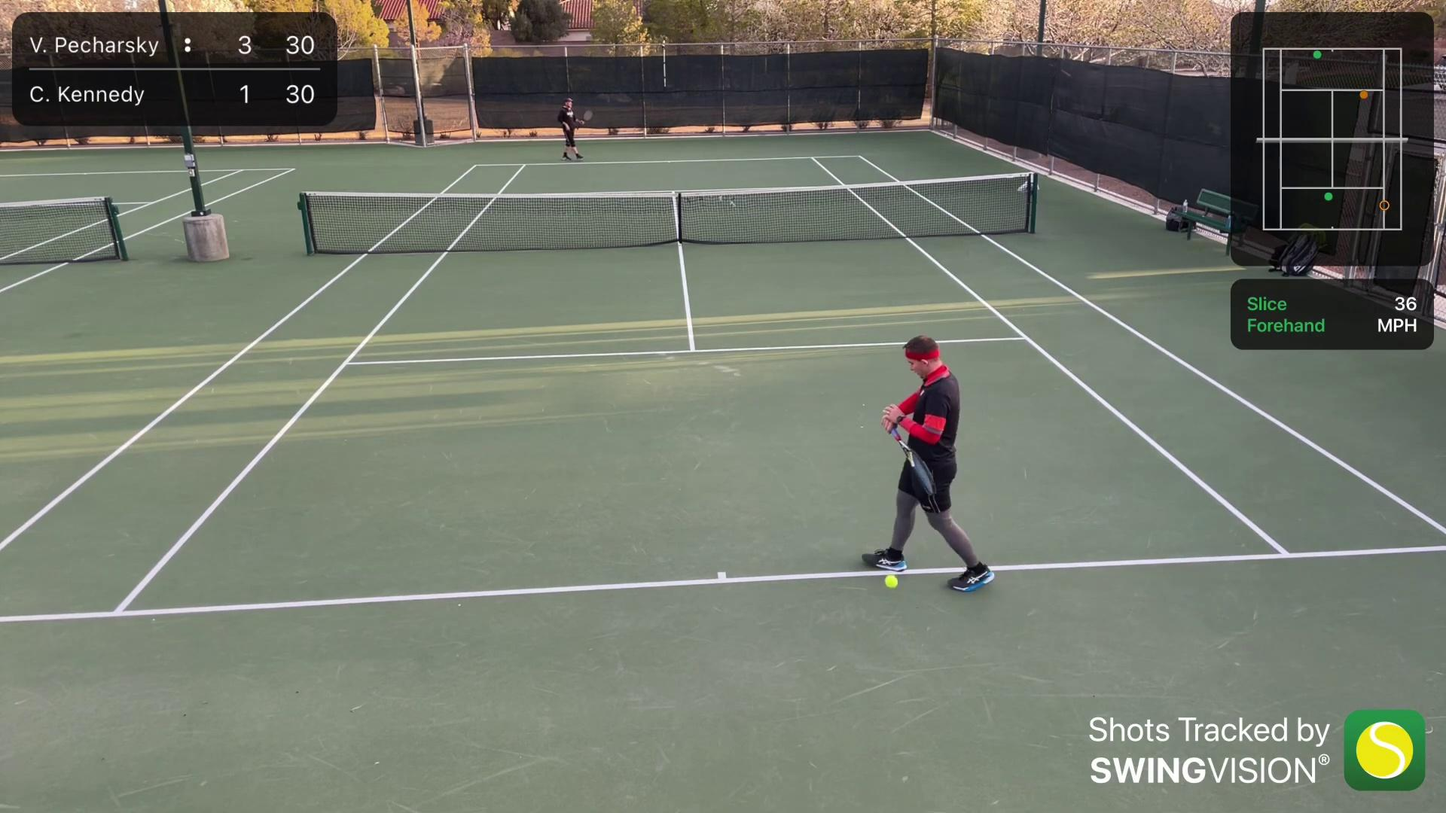ball: (881, 575, 900, 590)
